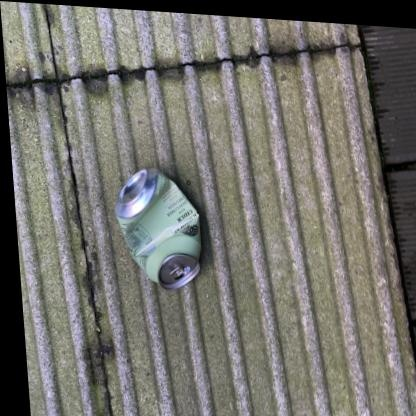trash: (115, 169, 200, 287)
